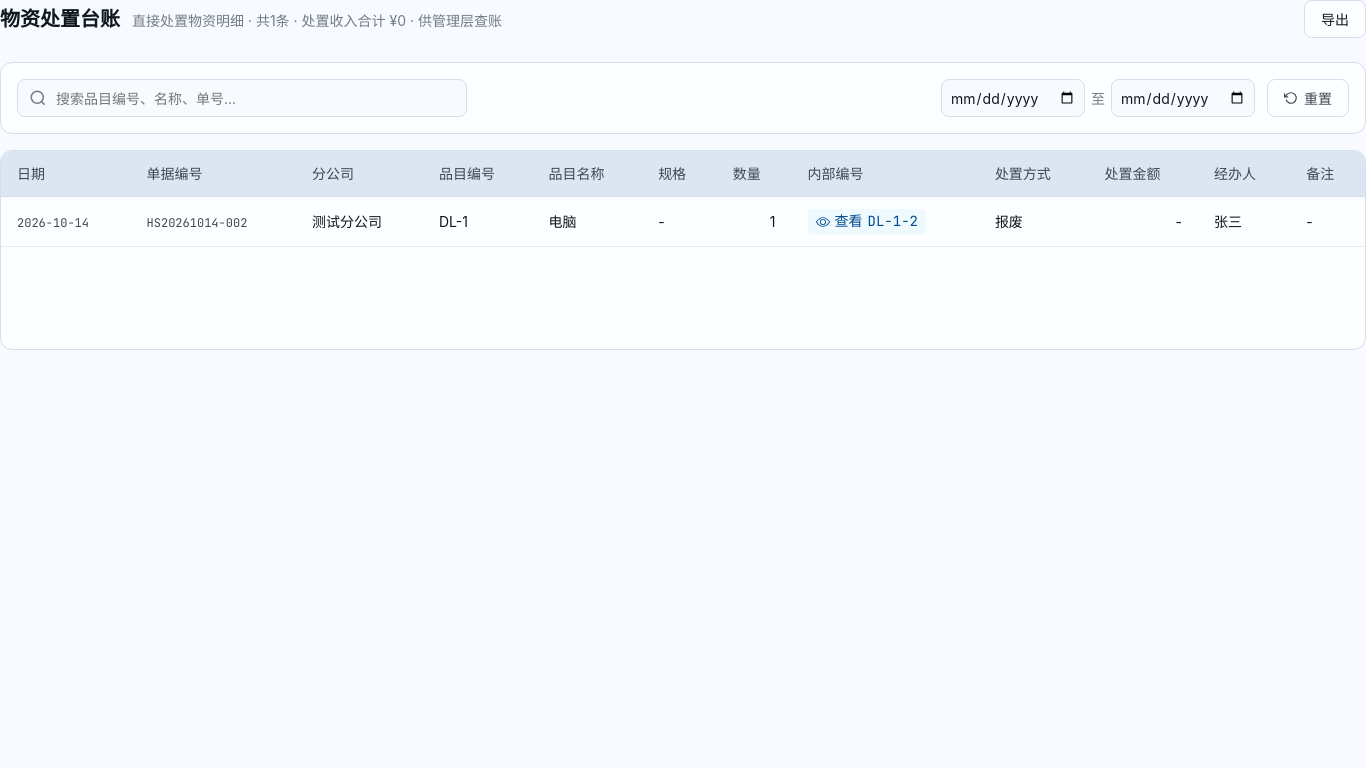
Test: 物资处置台账处置收入合计卡 › 生平读取失败时保留详情窗口并显示失败状态
Click the button with class "asset-link". click: point(867, 222)
box: left=808, top=209, right=926, bottom=234
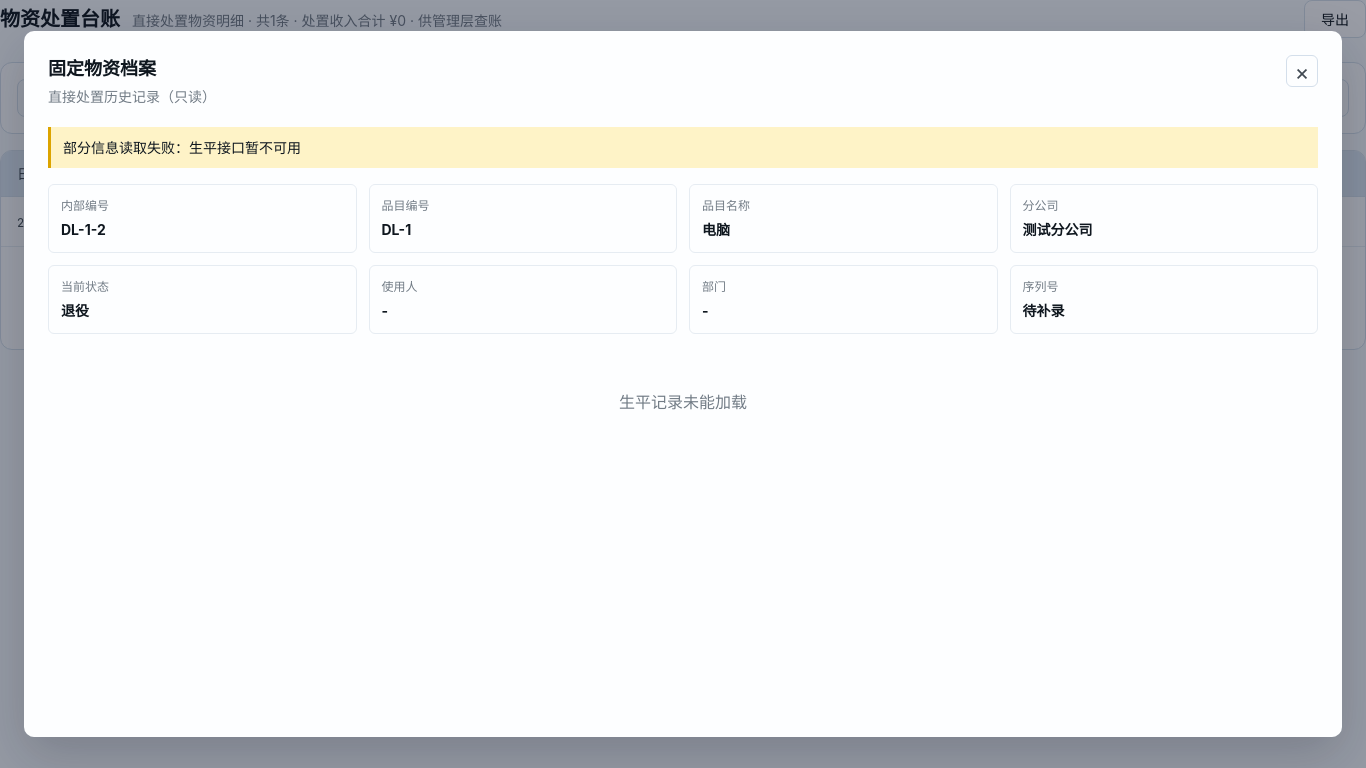
Now the dialog with class "detail-dialog" is shown
Now the text "生平接口暂不可用" is shown, box left=63, top=139, right=301, bottom=156
Now the text "生平记录未能加载" is shown, box left=619, top=392, right=747, bottom=412
